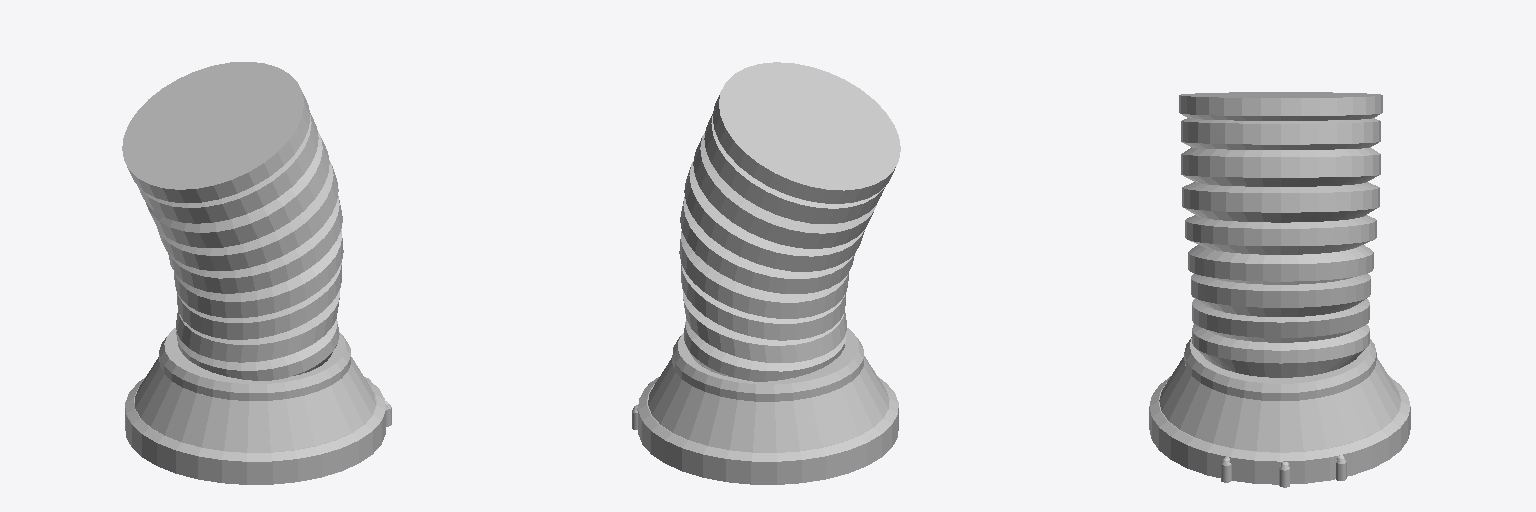
Rendered from PataIzq2.obj.
The picture shows the model from 3 angles: view 1: azimuth 30°, elevation 25°; view 2: azimuth 150°, elevation 25°; view 3: azimuth 270°, elevation 25°; orthographic projection.
Parts seen in each view (by area): view 1: C_rculo_005_C_rculo_006, C_rculo_018_C_rculo_019, C_rculo_019_C_rculo_020, C_rculo_017_C_rculo_018; view 2: C_rculo_005_C_rculo_006, C_rculo_018_C_rculo_019, C_rculo_019_C_rculo_020, C_rculo_017_C_rculo_018; view 3: C_rculo_005_C_rculo_006, C_rculo_018_C_rculo_019, C_rculo_019_C_rculo_020, C_rculo_017_C_rculo_018, Cilindro_004_Cilindro_007.
Part boxes in pixels (left/top/right/bottom): C_rculo_005_C_rculo_006: left=122, top=62, right=343, bottom=380; C_rculo_018_C_rculo_019: left=135, top=357, right=375, bottom=452; C_rculo_019_C_rculo_020: left=125, top=377, right=385, bottom=484; C_rculo_017_C_rculo_018: left=159, top=328, right=350, bottom=400; C_rculo_005_C_rculo_006: left=679, top=62, right=900, bottom=381; C_rculo_018_C_rculo_019: left=648, top=356, right=888, bottom=452; C_rculo_019_C_rculo_020: left=638, top=377, right=898, bottom=484; C_rculo_017_C_rculo_018: left=672, top=328, right=863, bottom=401; C_rculo_005_C_rculo_006: left=1179, top=92, right=1382, bottom=377; C_rculo_018_C_rculo_019: left=1159, top=357, right=1400, bottom=451; C_rculo_019_C_rculo_020: left=1149, top=376, right=1410, bottom=484; C_rculo_017_C_rculo_018: left=1184, top=337, right=1376, bottom=400; Cilindro_004_Cilindro_007: left=1221, top=455, right=1346, bottom=487.
Size of the model in its own units: 1.07 by 1.51 by 1.03.